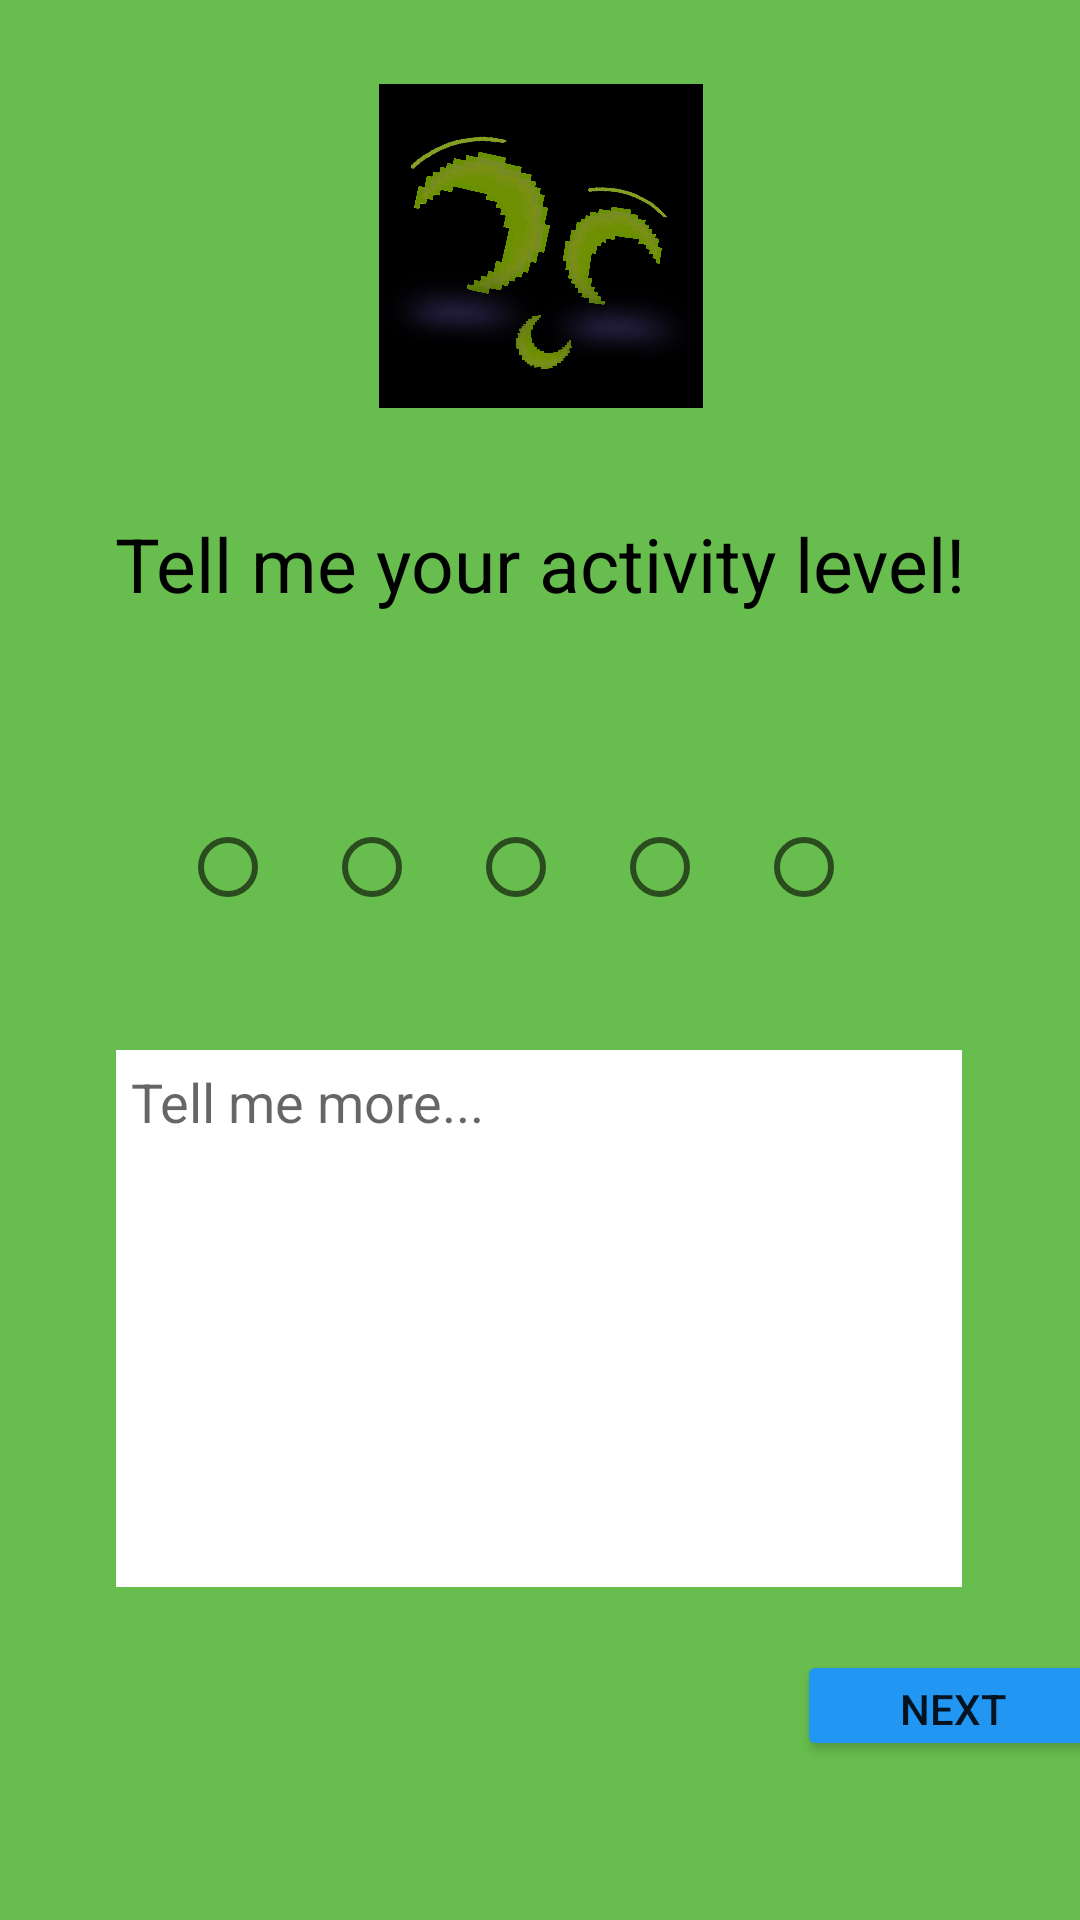

Named icons in this screenshot (1080x1920) and their centers, point (x, y):
happy: point (541, 246)
